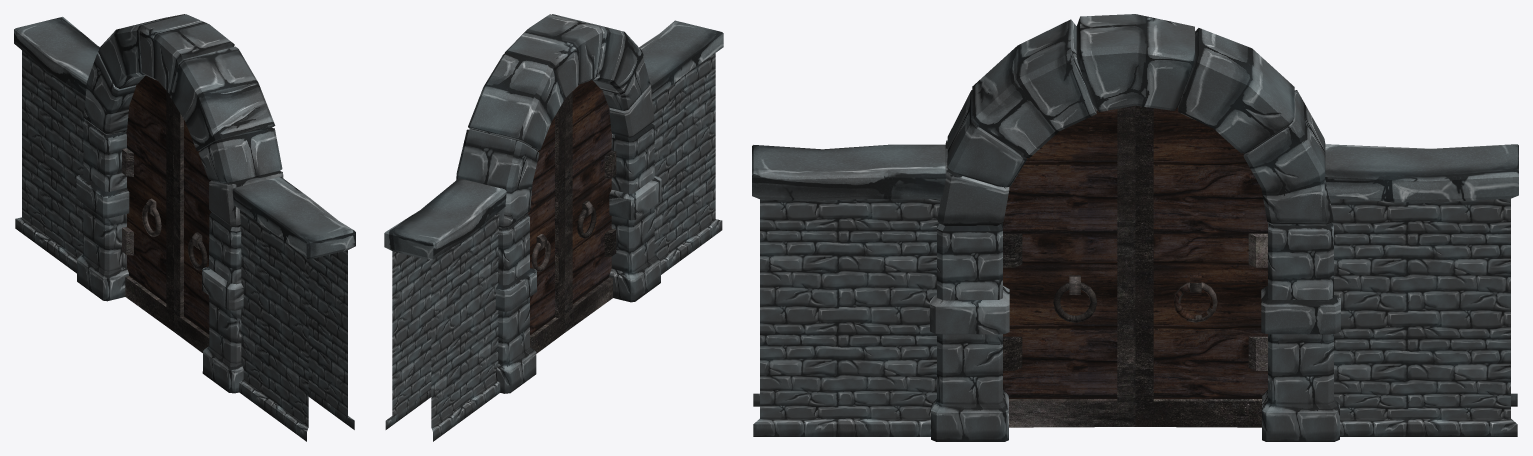
The model's file is gate.fbx.
The picture shows the model from 3 angles, left to right: view 1: azimuth 30°, elevation 25°; view 2: azimuth 150°, elevation 25°; view 3: azimuth 270°, elevation 25°; orthographic projection. The views are drawn at different scales.
Visible parts, largest first — view 1: dungeonGateWall, dungeonGateLeftDoor, dungeonGateRightDoor; view 2: dungeonGateWall, dungeonGateRightDoor, dungeonGateLeftDoor; view 3: dungeonGateWall, dungeonGateLeftDoor, dungeonGateRightDoor.
Part boxes in pixels (x1,y1,x2,y2): dungeonGateWall: [14, 14, 355, 441]; dungeonGateLeftDoor: [122, 75, 173, 331]; dungeonGateRightDoor: [173, 102, 211, 352]; dungeonGateWall: [384, 14, 723, 441]; dungeonGateRightDoor: [564, 80, 616, 332]; dungeonGateLeftDoor: [528, 98, 565, 353]; dungeonGateWall: [752, 14, 1518, 441]; dungeonGateLeftDoor: [1135, 105, 1267, 427]; dungeonGateRightDoor: [1003, 105, 1135, 427].
Bounding box in the file's own units: 1.05 × 4.61 × 8.16.
